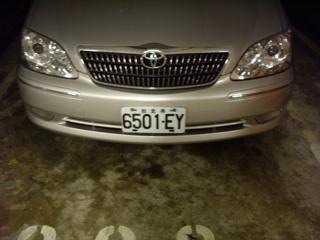plate: (119, 105, 189, 135)
